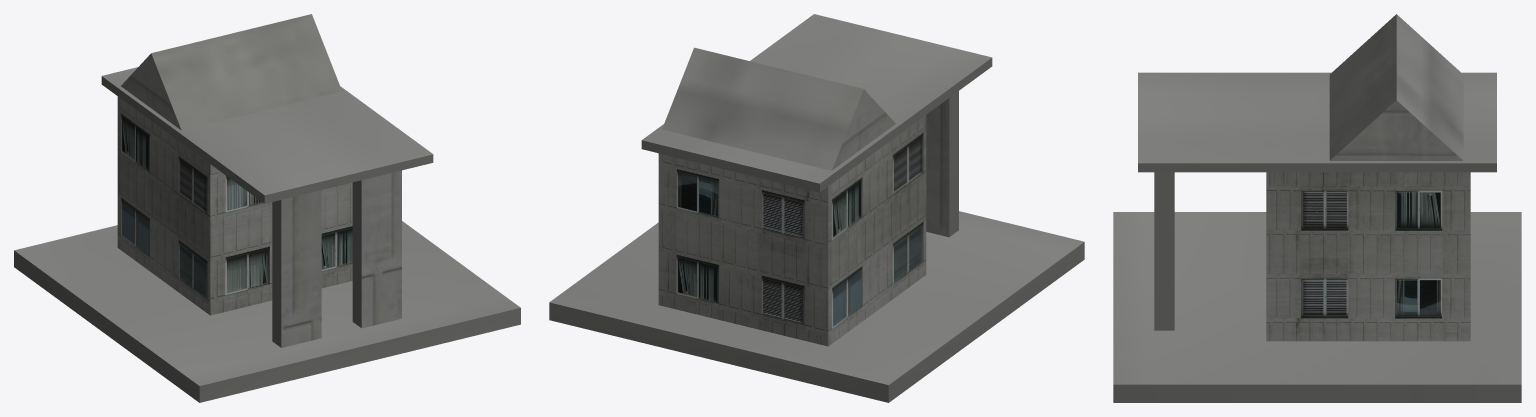
The picture shows the model from 3 angles, left to right: view 1: azimuth 30°, elevation 25°; view 2: azimuth 150°, elevation 25°; view 3: azimuth 270°, elevation 25°; orthographic projection. The views are drawn at different scales.
Parts seen in each view (by area): view 1: Cube_001; view 2: Cube_001; view 3: Cube_001.
Boxes of the visible parts, x1,y1,x2,y2 form: Cube_001: (14, 14, 520, 402); Cube_001: (549, 14, 1084, 402); Cube_001: (1113, 14, 1521, 402).
Size of the model in its own units: 8 by 8 by 5.61.
1 material, 1 textured.
